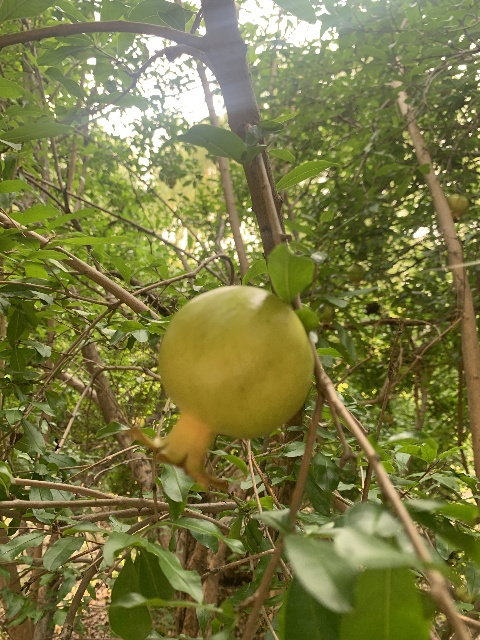mid-growth: (127, 284, 315, 493), (446, 194, 469, 219)
